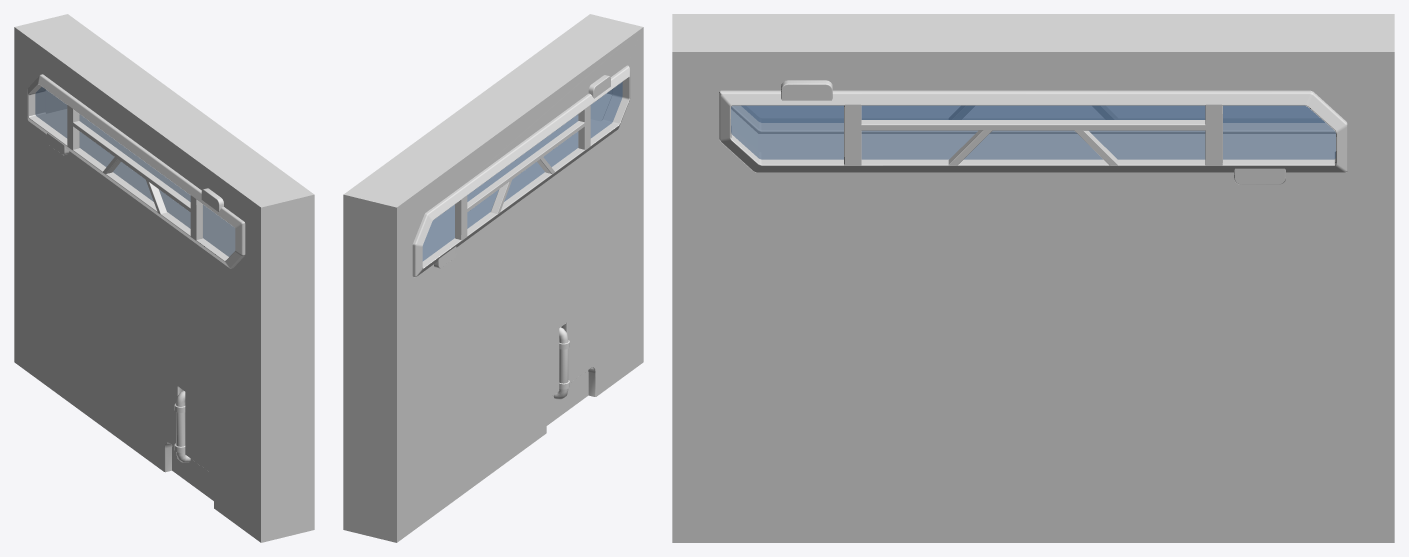
File: Building_04_Wall_05_Right.fbx
The picture shows the model from 3 angles, left to right: view 1: azimuth 30°, elevation 25°; view 2: azimuth 150°, elevation 25°; view 3: azimuth 270°, elevation 25°; orthographic projection. The views are drawn at different scales.
Parts seen in each view (by area): view 1: Building_04_Wall_05_Right, Building_04_Wall_05_R_Glass; view 2: Building_04_Wall_05_Right, Building_04_Wall_05_R_Glass; view 3: Building_04_Wall_05_Right, Building_04_Wall_05_R_Glass.
Boxes of the visible parts, x1,y1,x2,y2 form: Building_04_Wall_05_Right: [14, 14, 314, 542]; Building_04_Wall_05_R_Glass: [35, 87, 235, 256]; Building_04_Wall_05_Right: [343, 14, 643, 542]; Building_04_Wall_05_R_Glass: [422, 82, 622, 260]; Building_04_Wall_05_Right: [672, 14, 1394, 542]; Building_04_Wall_05_R_Glass: [731, 105, 1335, 159].
Size of the model in its own units: 0.6155 by 3 by 4.
